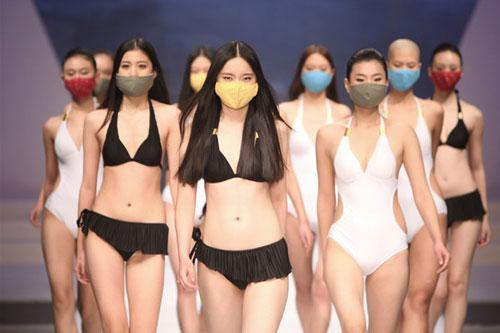OK: (218, 72, 257, 111), (62, 65, 99, 102), (185, 57, 216, 97), (391, 58, 425, 92), (350, 71, 384, 105), (432, 60, 463, 91), (303, 61, 332, 90), (95, 64, 115, 93)
WRONG: (117, 59, 150, 92)
